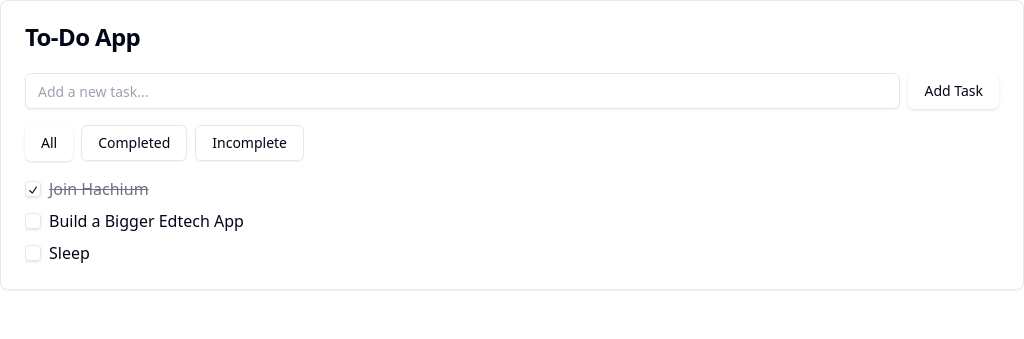
Test: allows users to filter tasks
Type "New Task" into the field with placeholder "Add a new task..." at (463, 91), box [25,73,900,109]
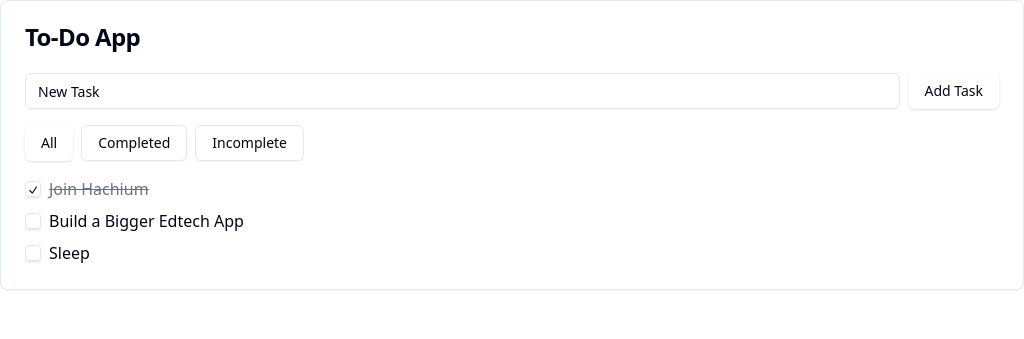
Click the button "Add Task" at (954, 91), box [908,73,999,109]
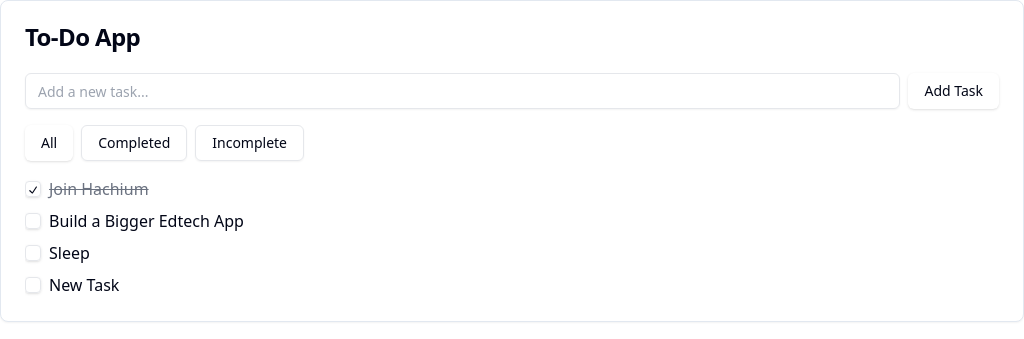
Click the button "Incomplete" at (250, 143), box [195,125,304,161]
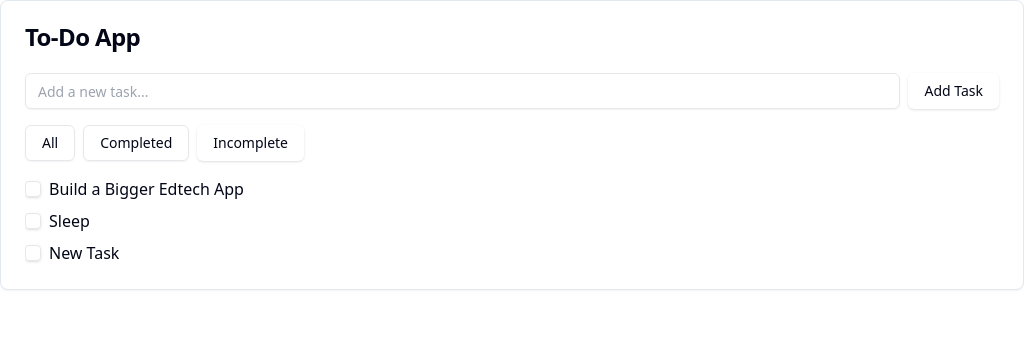
Expected: the text "New Task" is shown, [49,242,119,264]
Expected: the text "Join Hachium" is gone
